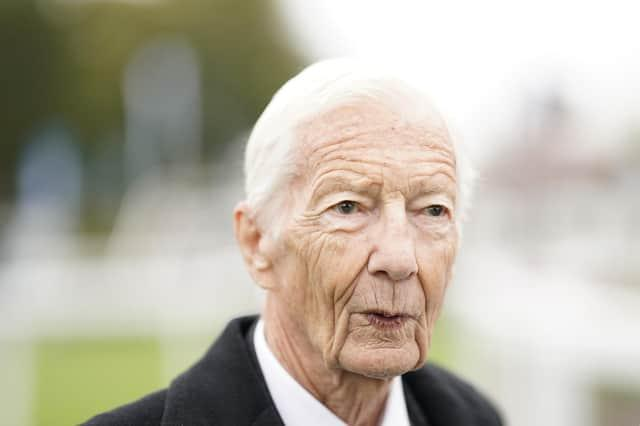crows_feet: (298, 208, 322, 232)
forehead: (320, 142, 368, 174), (420, 150, 458, 178)
frown_line: (386, 183, 409, 203)
gummy_smile: (342, 245, 371, 302), (411, 270, 431, 310)
masseter: (324, 286, 340, 338)
sad_smile: (334, 316, 354, 356), (412, 328, 424, 368)
smoker_lines: (386, 278, 398, 308)
